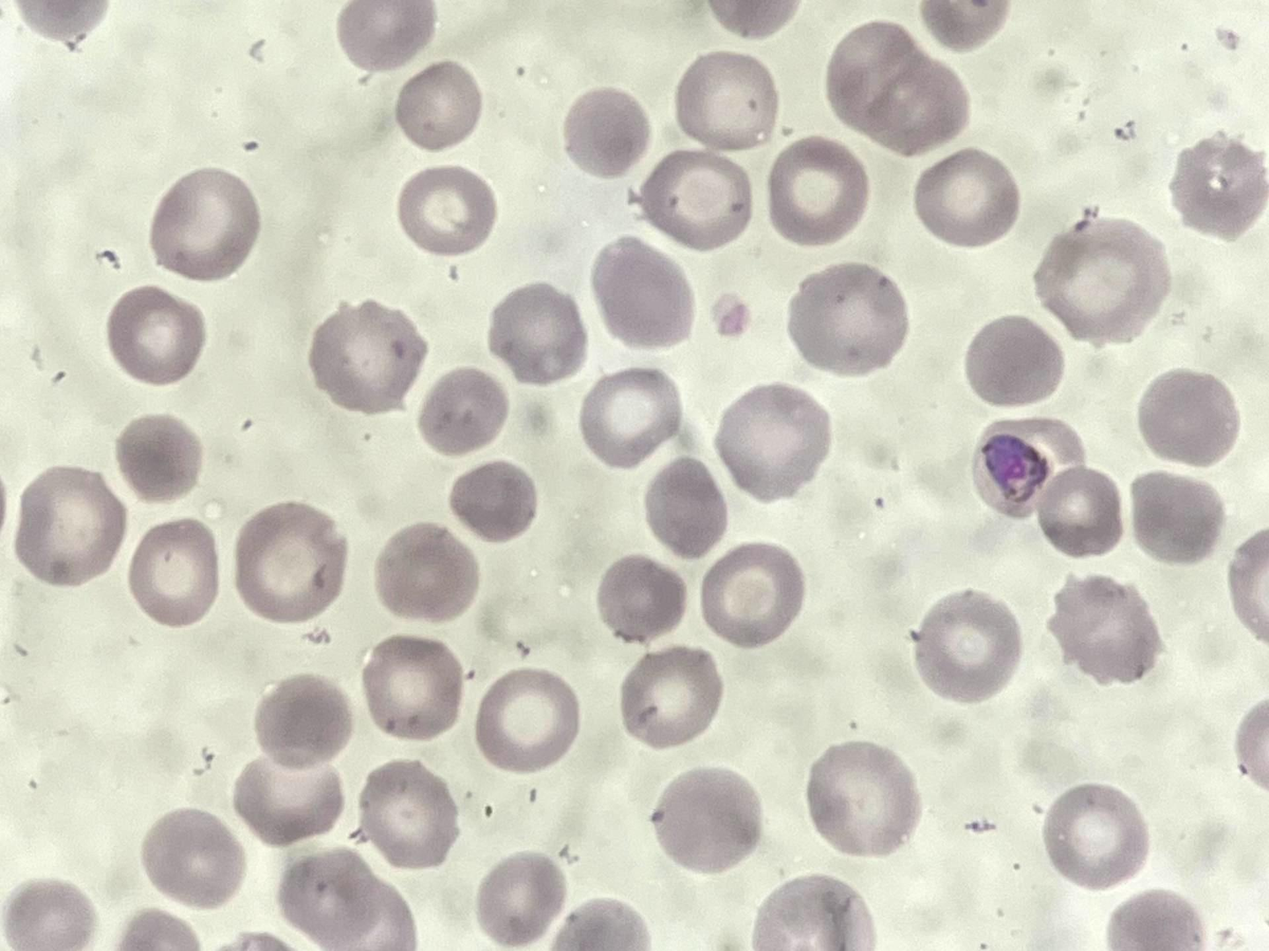Infected: (970, 416, 1080, 520)
Uninfected: (1038, 215, 1174, 342), (714, 383, 830, 500), (234, 502, 348, 619), (13, 468, 126, 586), (307, 301, 426, 412), (806, 743, 920, 857), (788, 264, 905, 375), (1047, 573, 1161, 683), (908, 591, 1020, 702), (150, 168, 260, 279), (650, 768, 763, 874), (590, 236, 694, 351), (638, 148, 751, 250), (1042, 784, 1149, 889), (823, 19, 923, 131), (356, 761, 461, 867), (141, 807, 248, 911), (766, 137, 869, 244), (361, 636, 467, 739), (1167, 132, 1269, 239), (374, 522, 482, 623), (699, 543, 803, 647), (232, 755, 342, 851), (1137, 369, 1241, 470), (474, 669, 578, 770), (913, 148, 1019, 247), (619, 647, 722, 747), (675, 52, 778, 150), (128, 519, 222, 625), (274, 843, 382, 935), (252, 672, 353, 770), (106, 286, 205, 385), (487, 284, 586, 383), (580, 369, 680, 467), (750, 875, 874, 951), (872, 55, 969, 152), (964, 317, 1064, 408), (397, 165, 496, 256), (1130, 470, 1224, 563), (475, 854, 568, 947), (596, 554, 688, 646), (416, 367, 510, 456), (642, 458, 726, 557), (1034, 465, 1124, 556), (114, 412, 204, 502), (565, 86, 652, 179), (397, 55, 481, 150), (449, 460, 537, 543), (334, 0, 438, 70), (317, 883, 418, 951), (3, 879, 95, 949)
